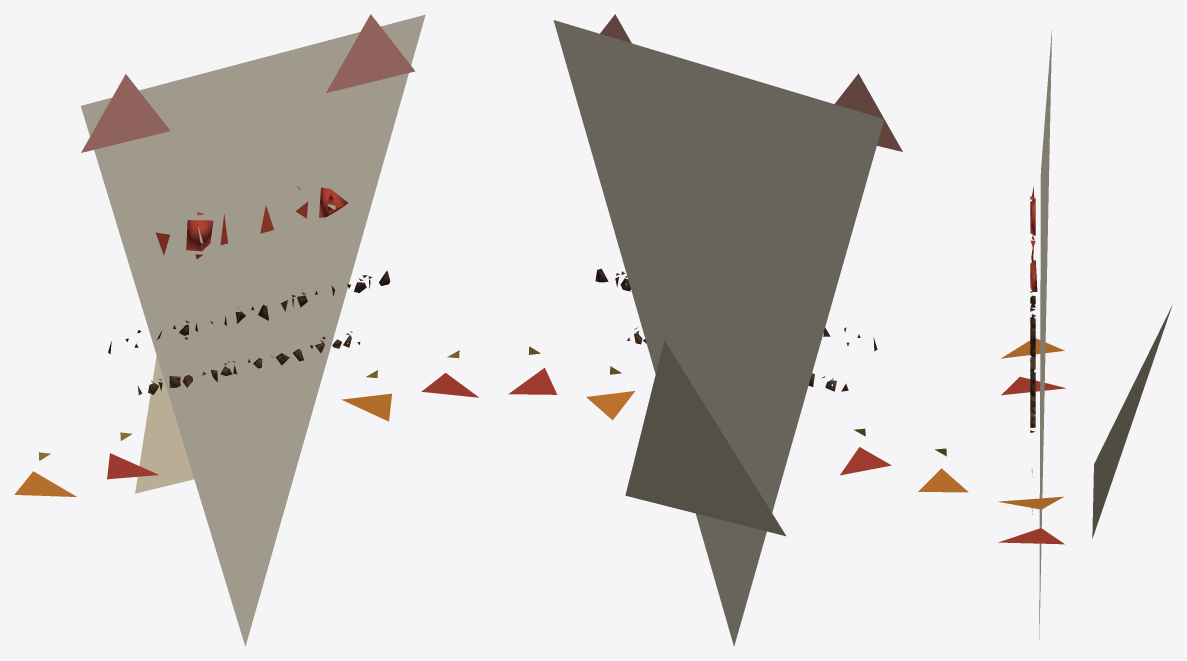
File: thiep_moi.glb
The picture shows the model from 3 angles, left to right: view 1: azimuth 30°, elevation 25°; view 2: azimuth 150°, elevation 25°; view 3: azimuth 270°, elevation 25°; orthographic projection. The views are drawn at different scales.
Visible parts, largest first — view 1: thiep_moi; view 2: thiep_moi; view 3: thiep_moi.
Part boxes in pixels (<box>): thiep_moi: <box>14,14,478,646</box>; thiep_moi: <box>508,14,968,646</box>; thiep_moi: <box>998,30,1172,639</box>.
Bounding box in the file's own units: 0.1096 × 0.1417 × 0.0392.
